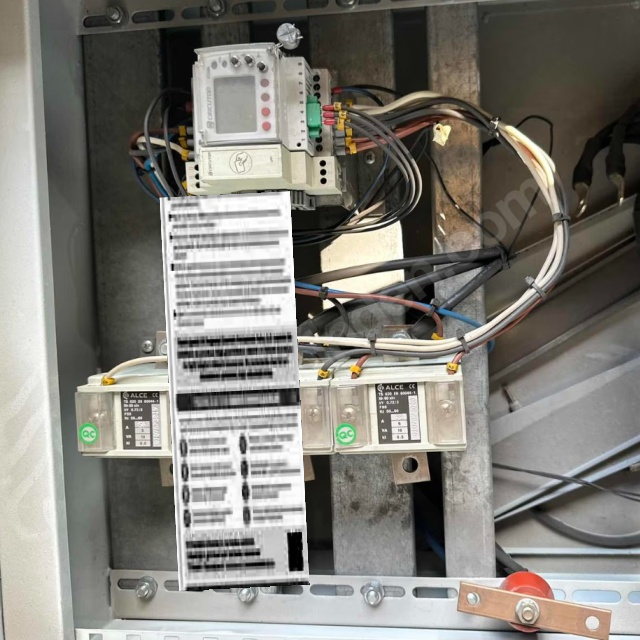electricity-bill: (159, 190, 309, 590)
